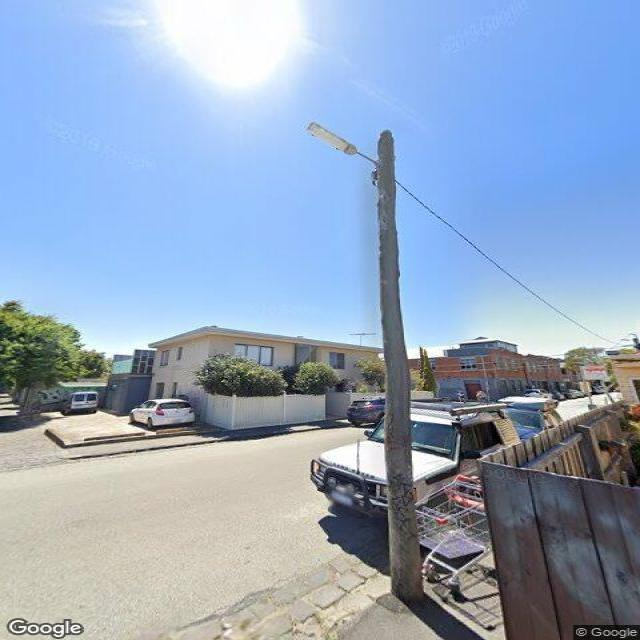streetlight: (306, 120, 380, 171)
timber-pole: (374, 130, 424, 600)
